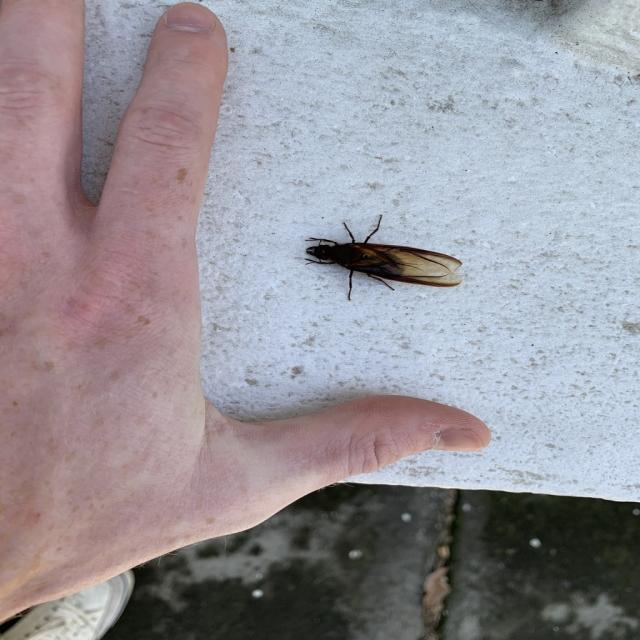Alive-Female-Alate: (304, 214, 462, 301)
